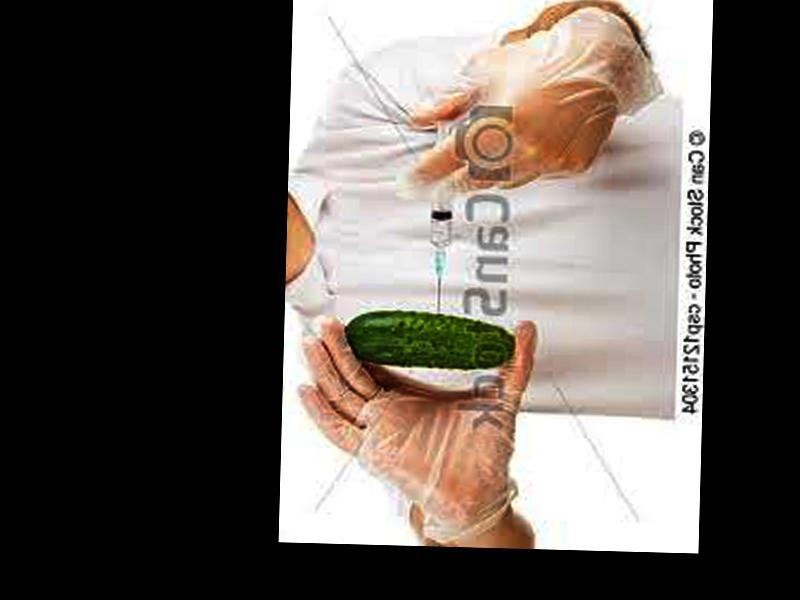Cucumber: (339, 311, 514, 372)
